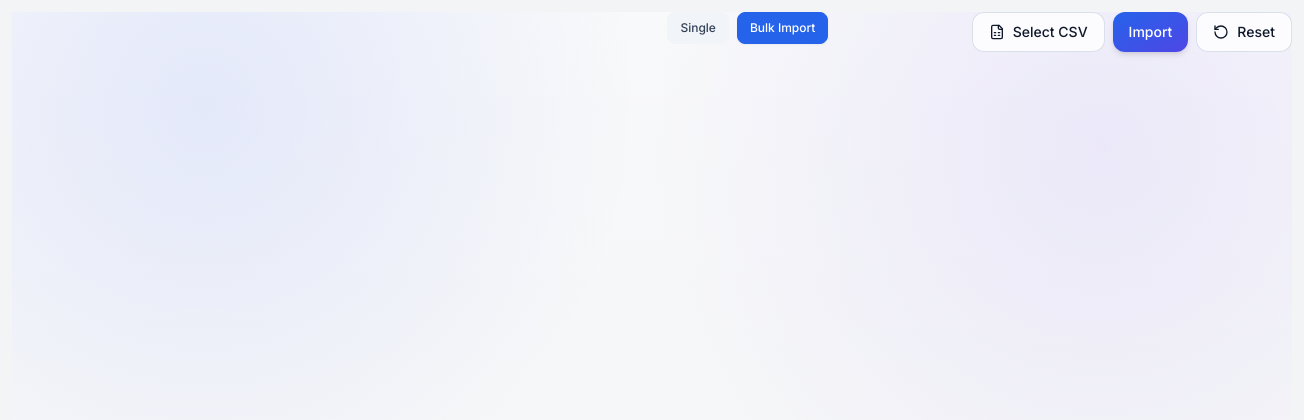
Test case: EnrollPage bulk import success › parses CSV and shows success message after import
Earlier steps of the test are not shown.
Click the button "Import". click: (1150, 32)
box: [1113,12,1188,52]
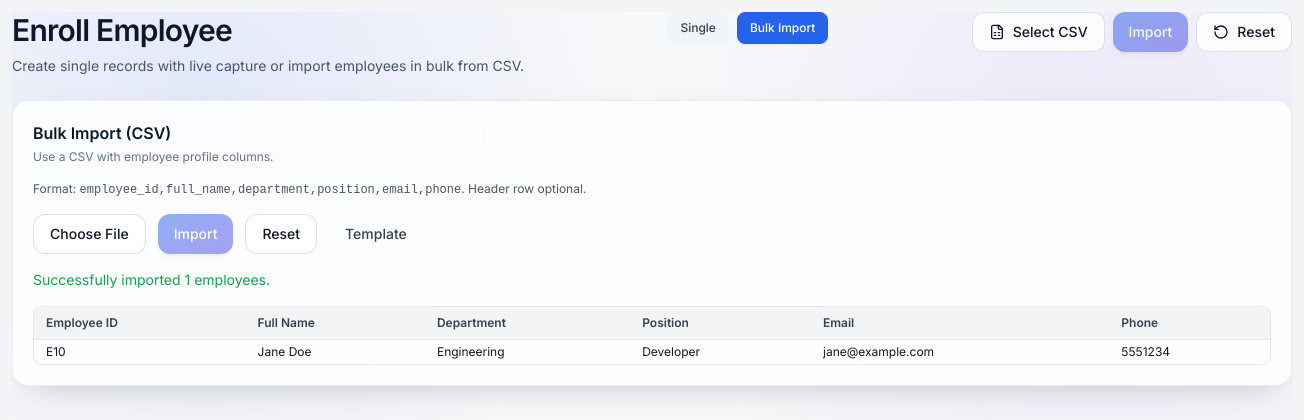
Check: the text "Successfully imported 1 employees." is shown, box [33,271,270,288]
